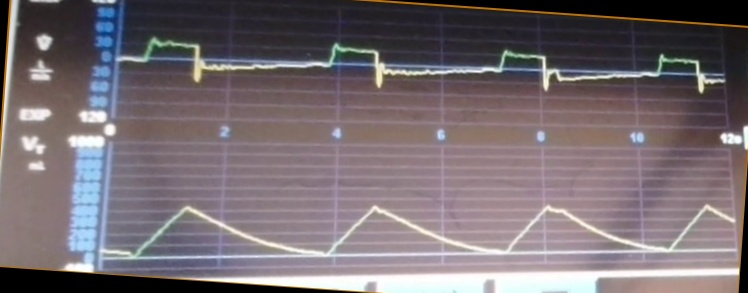Premature_cycling Flow: (121, 33, 726, 118)
Premature_cycling Volume: (108, 185, 734, 263)
